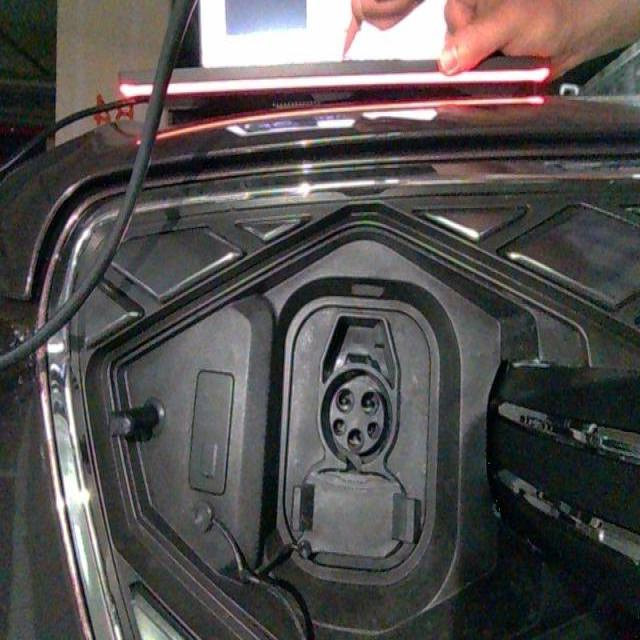Type 1: (306, 360, 406, 463)
